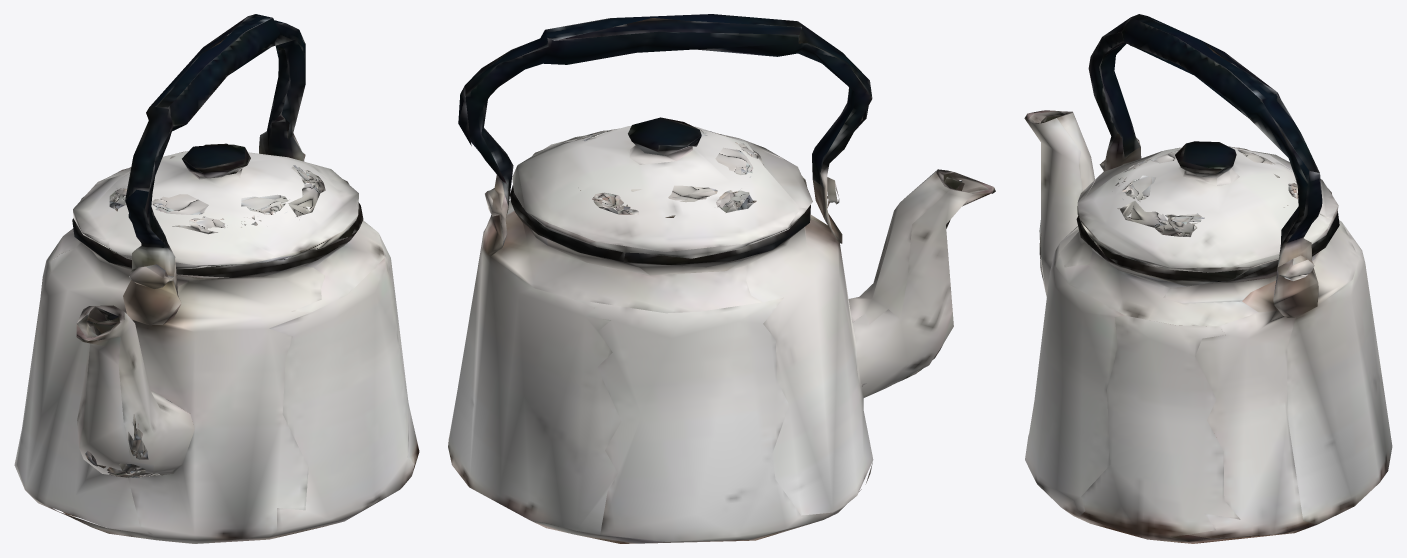
File: tetera.movil.glb
The picture shows the model from 3 angles, left to right: view 1: azimuth 30°, elevation 25°; view 2: azimuth 150°, elevation 25°; view 3: azimuth 270°, elevation 25°; orthographic projection. The views are drawn at different scales.
Visible parts, largest first — view 1: geometry_0; view 2: geometry_0; view 3: geometry_0.
Boxes of the visible parts, x1,y1,x2,y2 form: geometry_0: (14,14,419,543); geometry_0: (448,14,995,543); geometry_0: (1024,14,1392,543).
Size of the model in its own units: 0.2 by 0.1998 by 0.16.
Materials: 1 (1 with a texture image).
